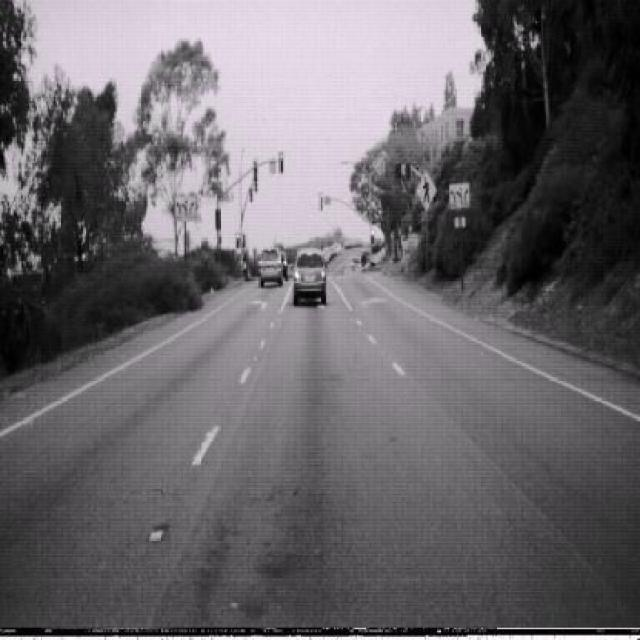pedestrianCrossing: (416, 167, 438, 210)
